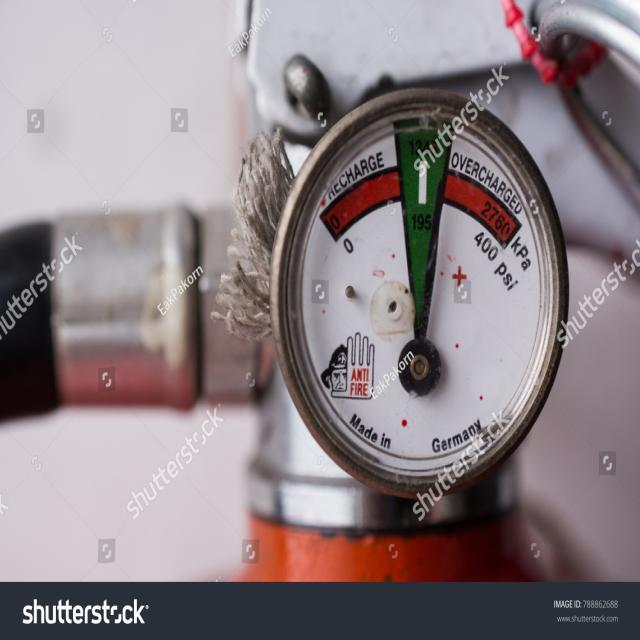pressure gauge: (274, 90, 566, 497)
